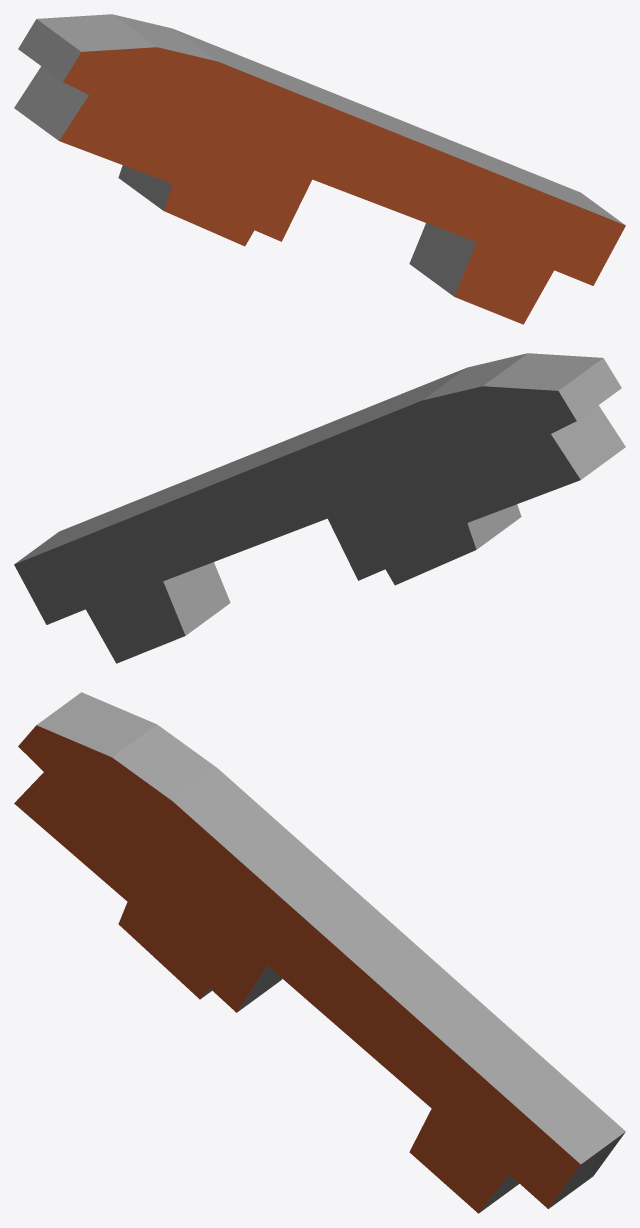
File: construction_5850_assumed_A_Casa_h6m.obj
3 renders of one model, top to bottom at view 1: azimuth 30°, elevation 25°; view 2: azimuth 150°, elevation 25°; view 3: azimuth 330°, elevation 25°, orthographic.
Parts seen in each view (by area): view 1: construction_5850_assumed_A_Casa; view 2: construction_5850_assumed_A_Casa; view 3: construction_5850_assumed_A_Casa.
Boxes of the visible parts, x1,y1,x2,y2 form: construction_5850_assumed_A_Casa: (14,14,625,324); construction_5850_assumed_A_Casa: (14,353,625,663); construction_5850_assumed_A_Casa: (14,692,625,1213).
Size of the model in its own units: 43.54 by 27.94 by 6.
